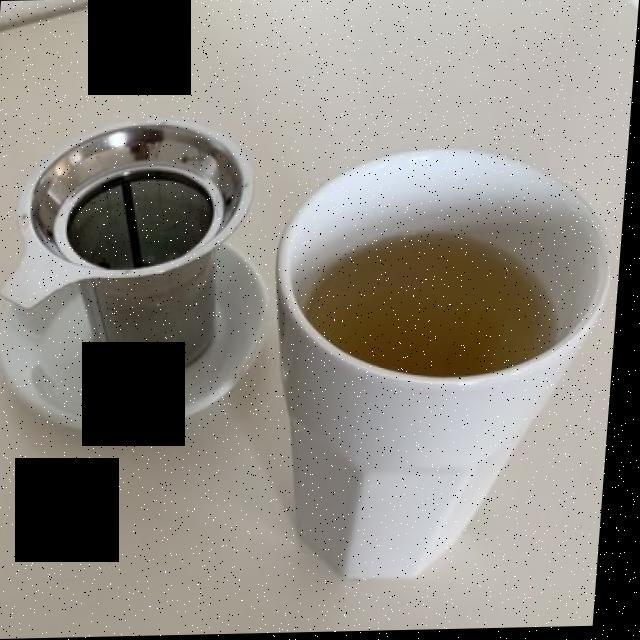tea: (317, 232, 553, 376)
